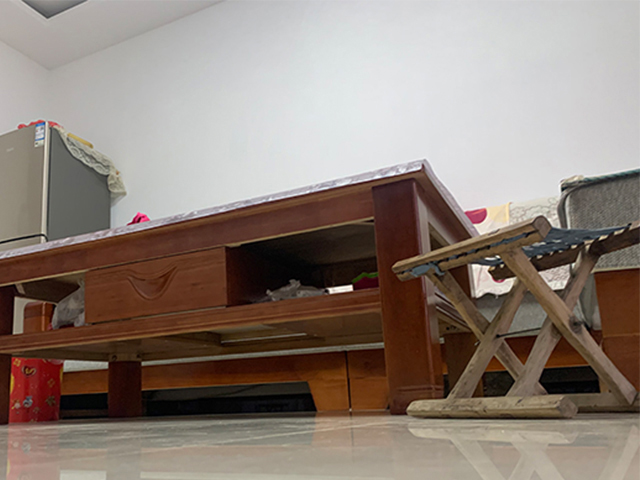stool: (392, 216, 640, 421)
table: (1, 159, 479, 425)
trashcan: (10, 356, 63, 426)
